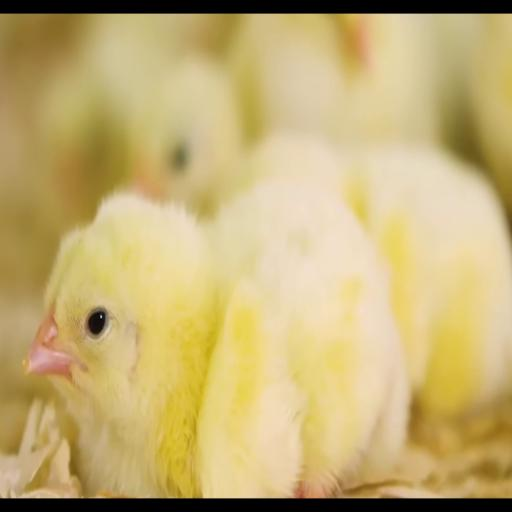chick: (27, 180, 409, 497), (130, 53, 245, 216)
